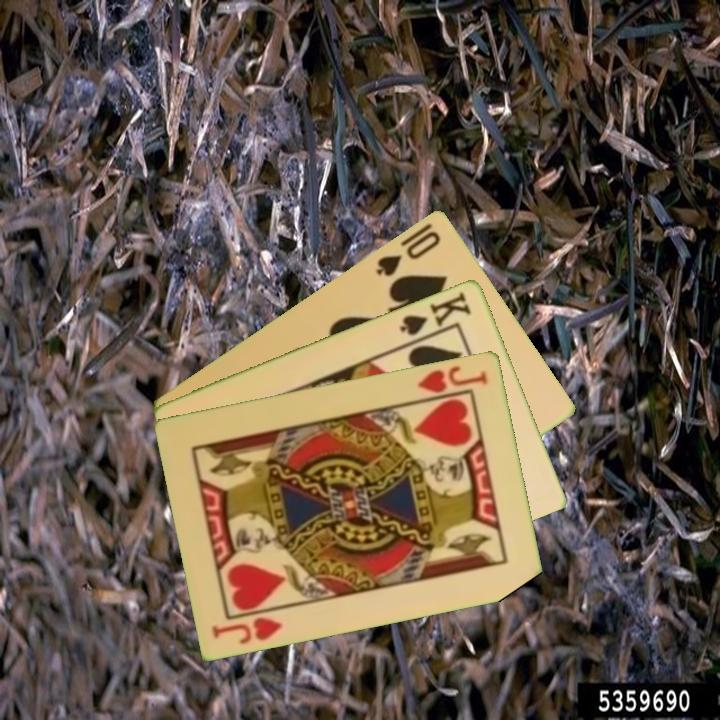10s: (372, 226, 444, 279)
Jh: (414, 361, 491, 396), (209, 612, 286, 646)
Ks: (396, 287, 475, 338)
